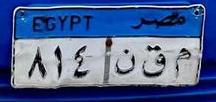1: (53, 45, 63, 80)
4: (71, 43, 92, 80)
8: (29, 44, 46, 82)
meem: (169, 44, 193, 78)
noon: (115, 48, 138, 74)
qaaf: (140, 45, 166, 78)
